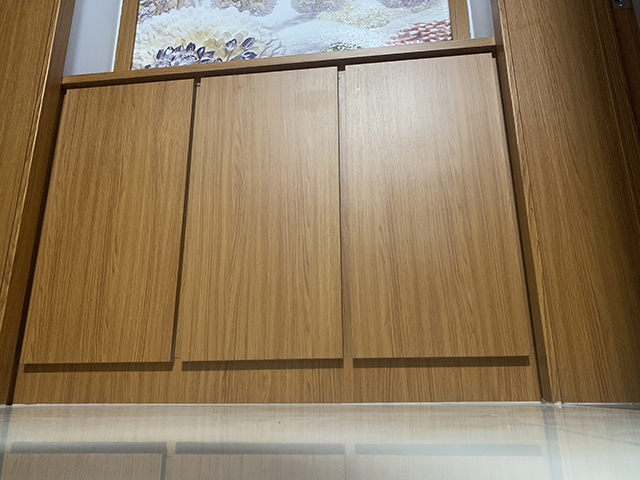cabinet: (10, 35, 546, 406)
